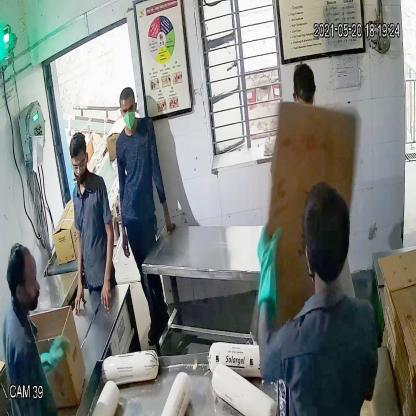goggles: (68, 154, 89, 176)
no_goggles: (116, 102, 140, 119)
